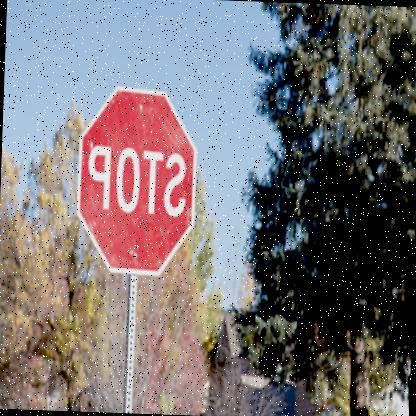stop: (72, 85, 202, 280)
